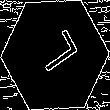L_SW: (29, 28, 81, 82)
